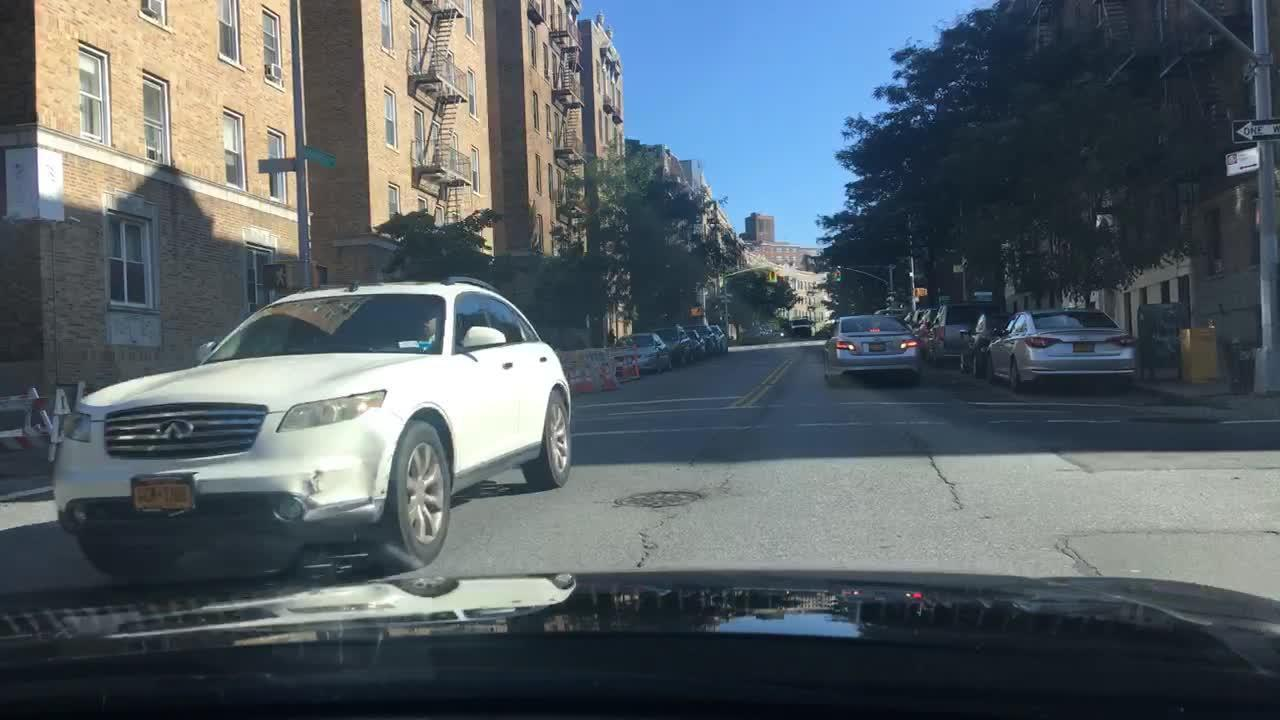Infiniti: (143, 410, 204, 457)
